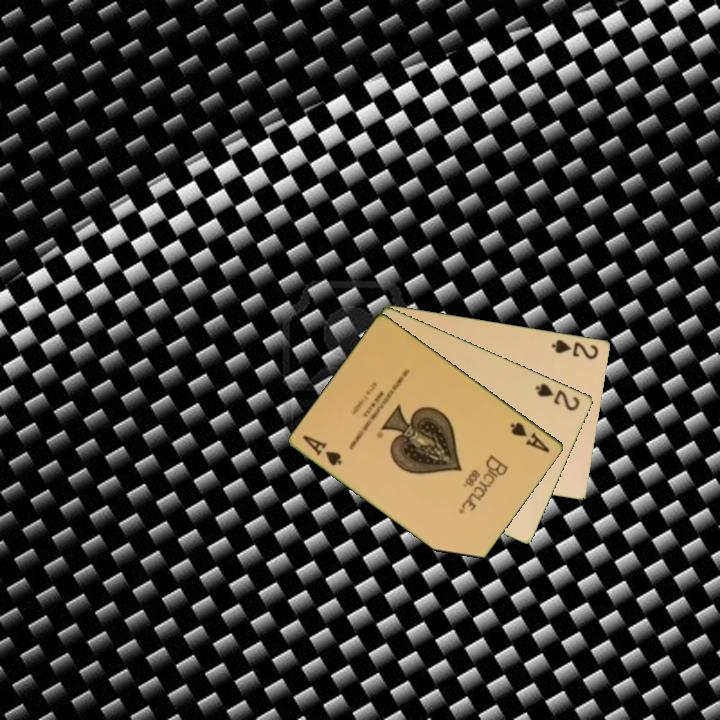2s: (532, 380, 583, 414), (549, 336, 602, 362)
As: (299, 431, 346, 469), (507, 418, 553, 456)
